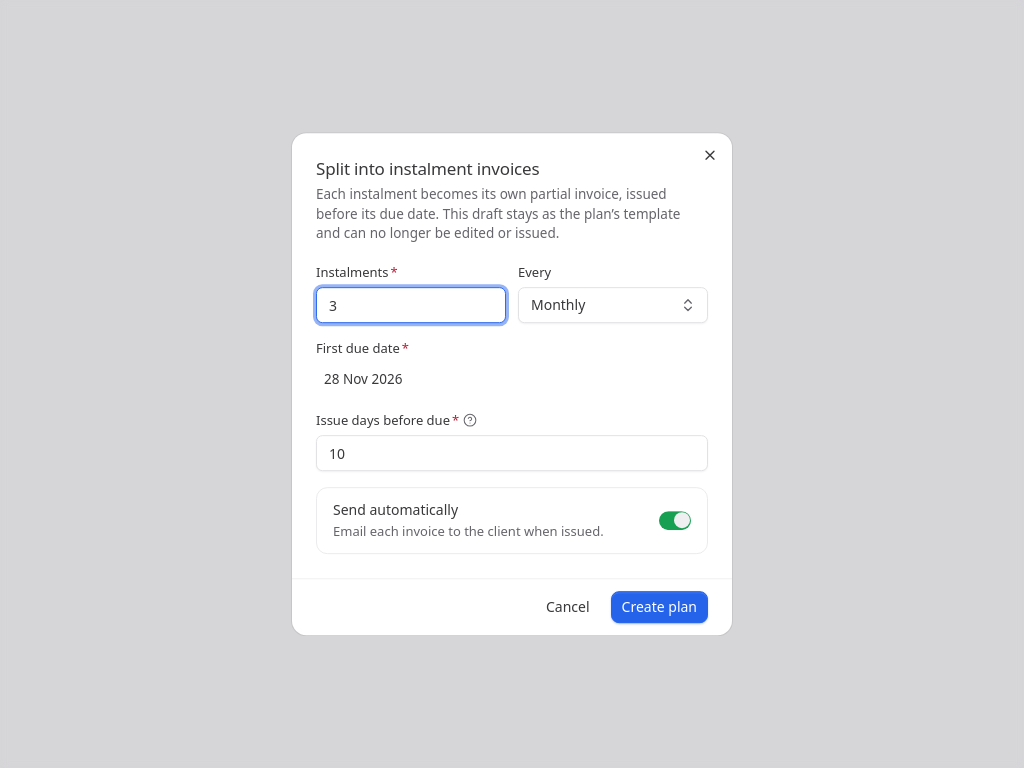
it: plan dialog creates plan
The width and height of the screenshot is (1024, 768).
Later steps or results of the test are not shown.
Replace the text in the field labelled "Instalments*" with "13" at (411, 305), box [316,287,506,323]
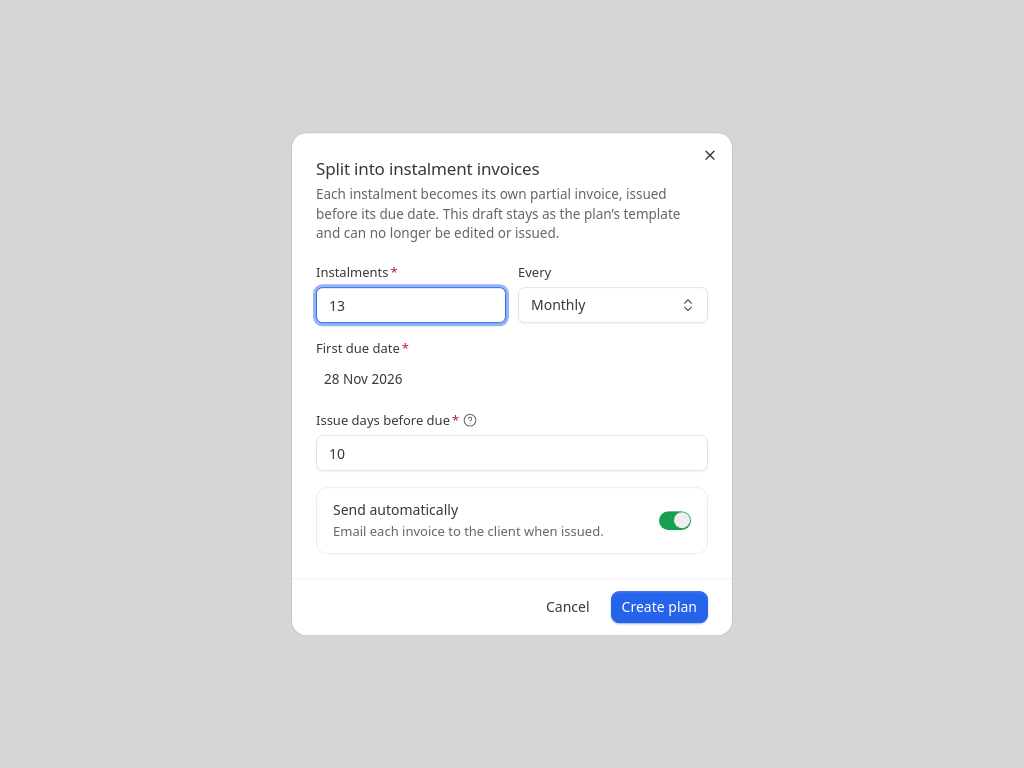
Click the button "Create plan".
click(659, 607)  # box [611,591,708,623]
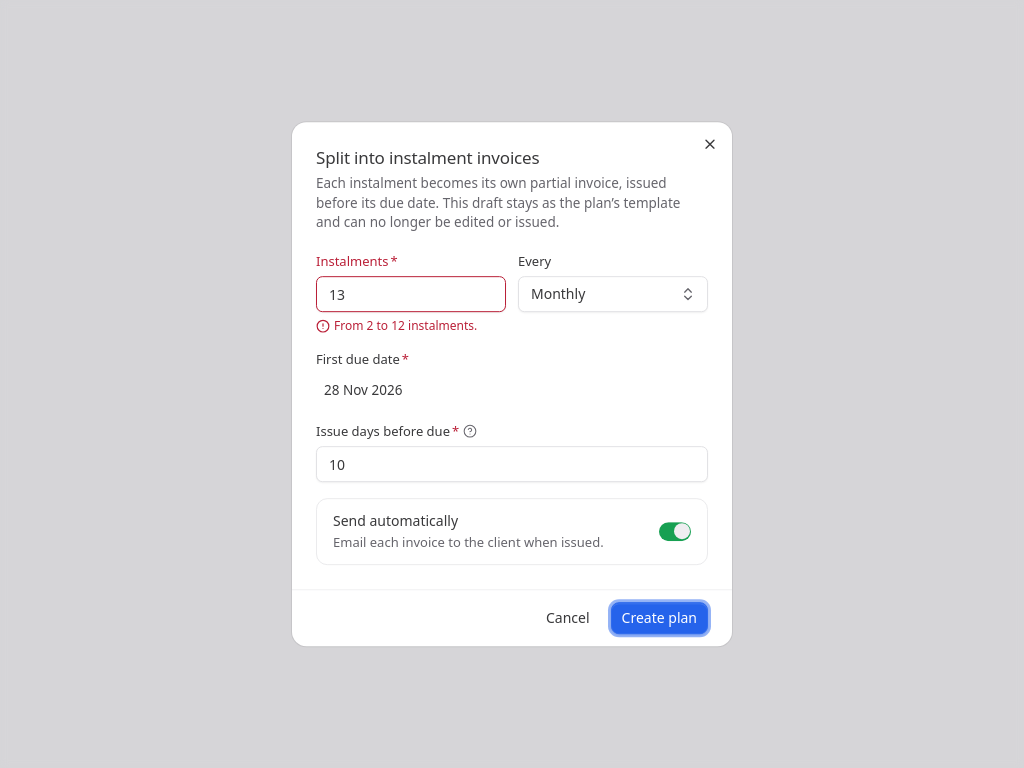
Result: the text "From 2 to 12 instalments." is shown at [316,317,477,334]
